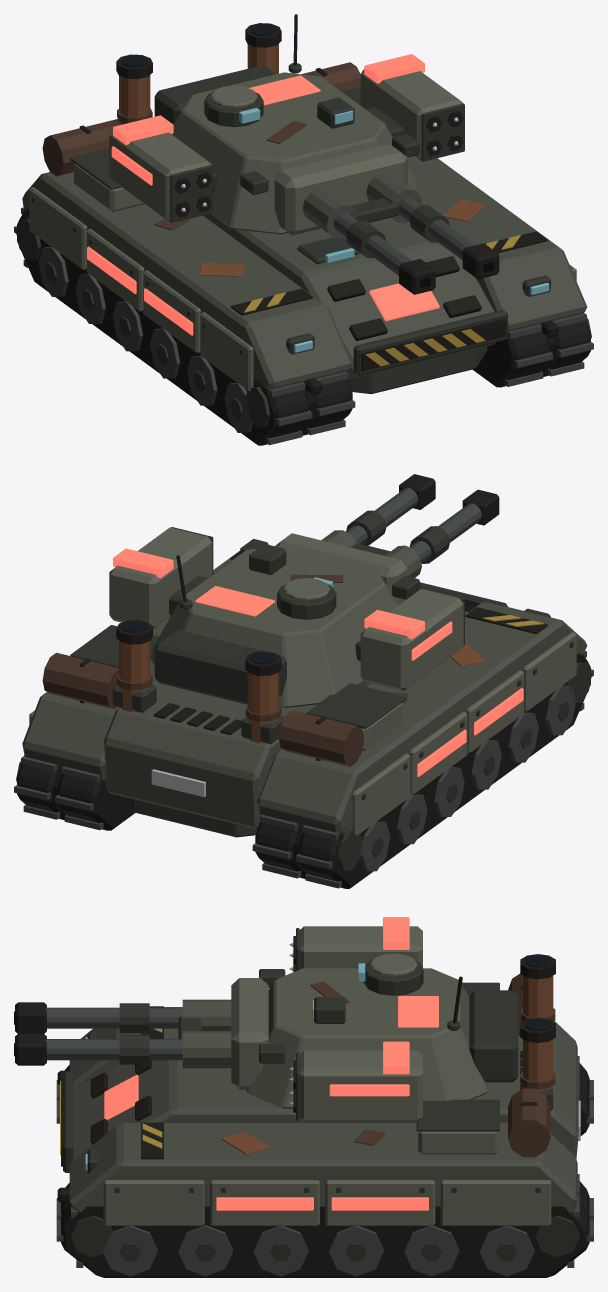
The model's file is m_mammoth.glb.
3 renders of one model, top to bottom at view 1: azimuth 30°, elevation 25°; view 2: azimuth 150°, elevation 25°; view 3: azimuth 270°, elevation 25°, orthographic.
Visible parts, largest first — view 1: Chassis, Turret armor, Twin cannon; view 2: Chassis, Turret armor, Twin cannon; view 3: Chassis, Turret armor, Twin cannon.
Boxes of the visible parts, x1,y1,x2,y2 form: Chassis: [14, 23, 593, 445]; Turret armor: [109, 14, 464, 235]; Twin cannon: [302, 172, 499, 294]; Chassis: [14, 550, 593, 888]; Turret armor: [109, 527, 464, 707]; Twin cannon: [321, 474, 499, 577]; Chassis: [56, 954, 593, 1277]; Turret armor: [231, 917, 518, 1122]; Twin cannon: [14, 999, 231, 1068].
Bounding box in the file's own units: 4.39 × 3.15 × 6.54.
